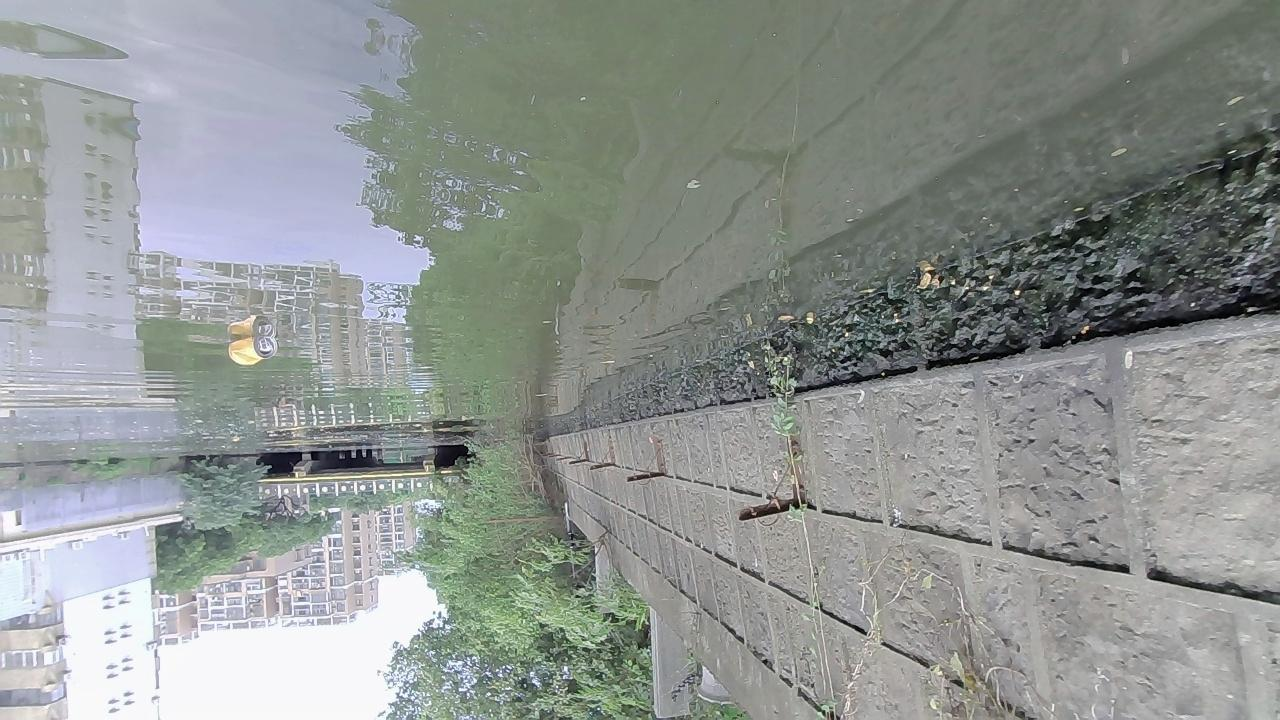Metal: (227, 335, 279, 366)
